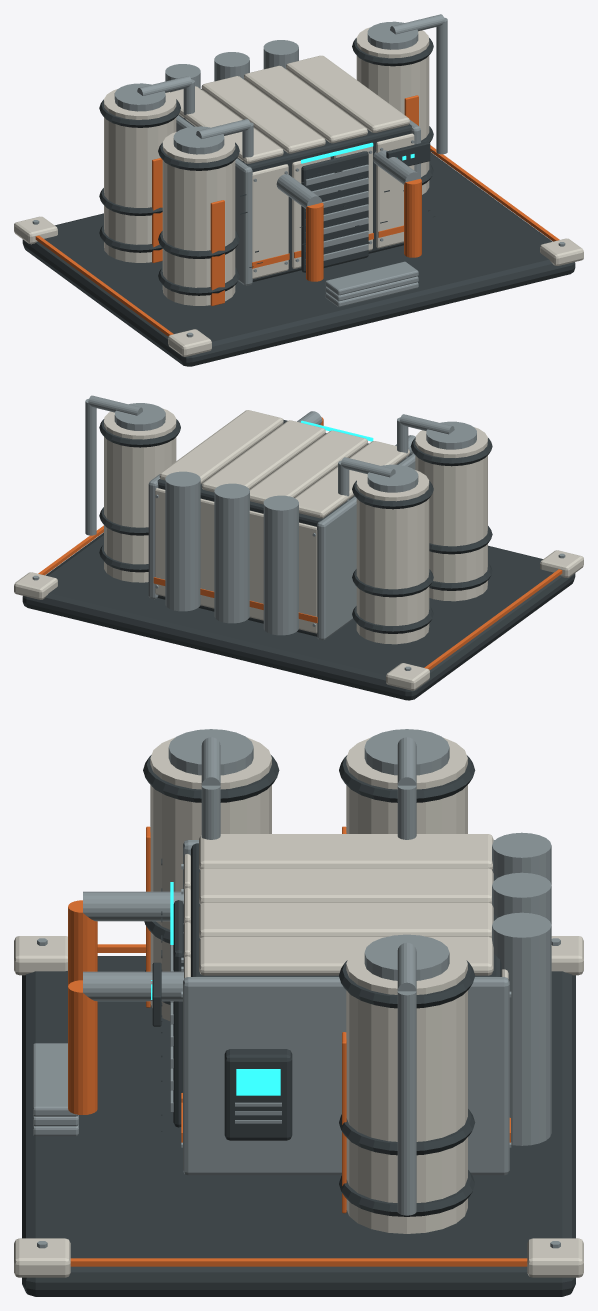
The model's file is SM_WaterPurifier_Body.002.fbx.
3 renders of one model, top to bottom at view 1: azimuth 30°, elevation 25°; view 2: azimuth 150°, elevation 25°; view 3: azimuth 270°, elevation 25°, orthographic. The views are drawn at different scales.
Visible parts, largest first — view 1: SM_WaterPurifier_Body.002; view 2: SM_WaterPurifier_Body.002; view 3: SM_WaterPurifier_Body.002.
Part boxes in pixels (box(x1,y1,x2,y2)): SM_WaterPurifier_Body.002: box(14, 14, 583, 366); SM_WaterPurifier_Body.002: box(14, 395, 583, 700); SM_WaterPurifier_Body.002: box(14, 729, 583, 1296).
Bounding box in the file's own units: 572 × 422 × 247.
